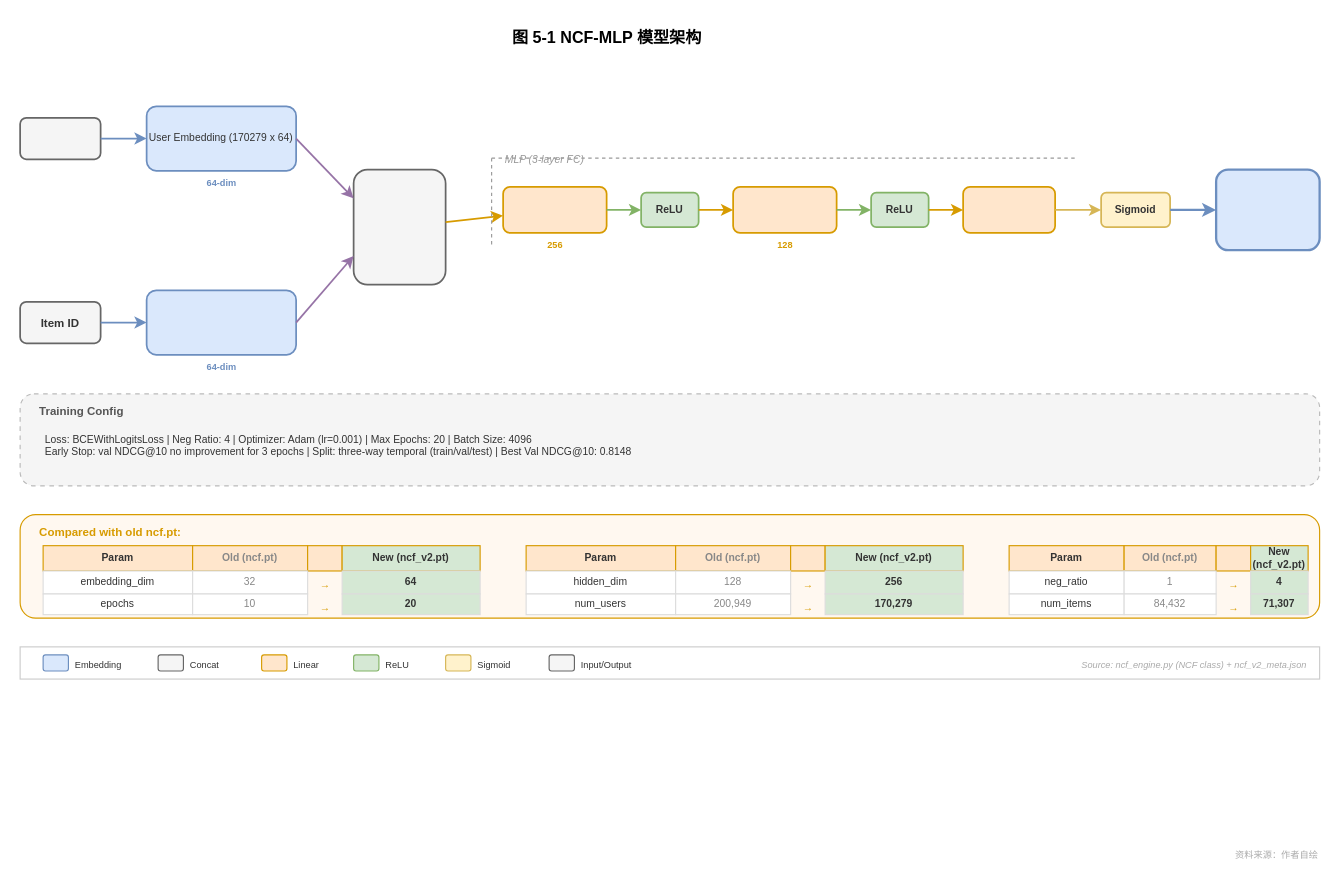
This 1341x881 diagram has some shape labels left out. The centre of each missing label's shape, as x and y in pixels:
"Concat (128)" goes at point 399,226.
"Item Embedding (71307 x 64)" goes at point 220,322.
"Linear(128,1)" goes at point 1008,209.
"Linear(128,256)" goes at point 554,209.
"Linear(256,128)" goes at point 784,209.
"User ID" goes at point 60,138.
"y_ui E [0, 1]" goes at point 1267,209.
